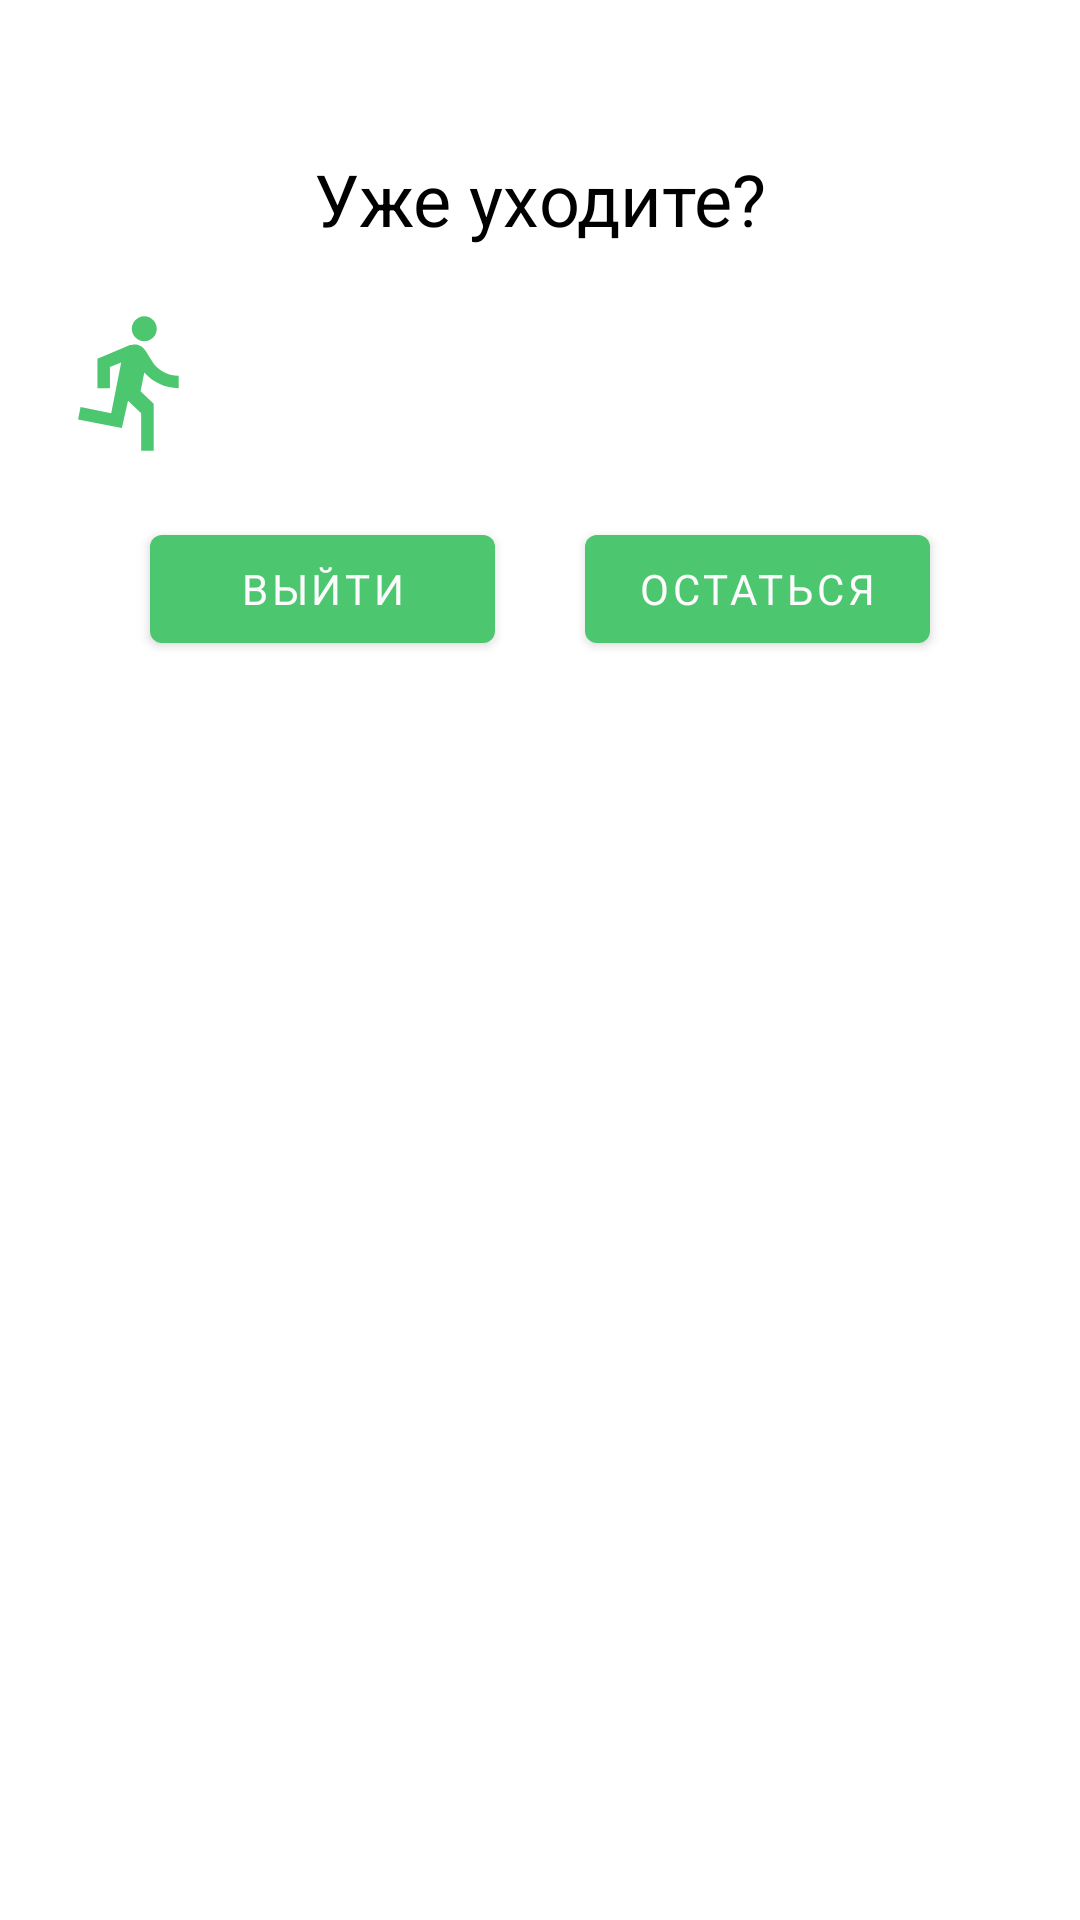

Where icons sit on this 1080 × 1920 app screen, as [x1,y1,x2,y2]:
run: [78,316,179,451]
